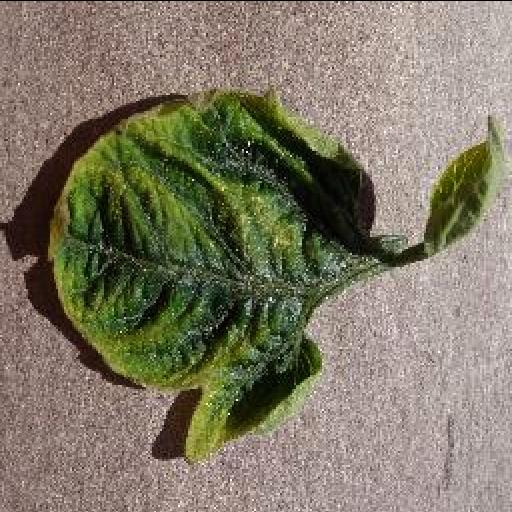disease_tomato: (46, 82, 376, 462)
